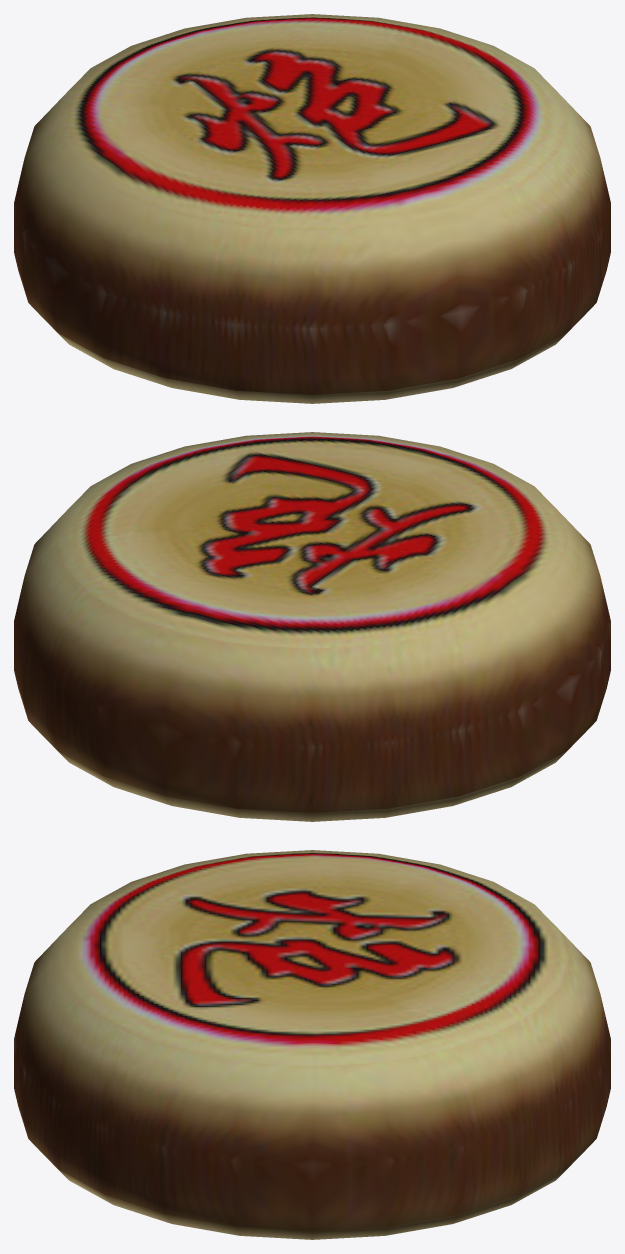
The model's file is Red_21_cannon_left.gltf.
The picture shows the model from 3 angles, top to bottom: view 1: azimuth 30°, elevation 25°; view 2: azimuth 150°, elevation 25°; view 3: azimuth 270°, elevation 25°; orthographic projection.
Visible parts, largest first — view 1: Red_21_cannon_left; view 2: Red_21_cannon_left; view 3: Red_21_cannon_left.
Boxes of the visible parts, box(x1,y1,x2,y2) form: Red_21_cannon_left: box(14, 14, 610, 403); Red_21_cannon_left: box(14, 432, 610, 821); Red_21_cannon_left: box(14, 850, 610, 1239).
Size of the model in its own units: 0.0468 by 0.0155 by 0.0468.
Materials: 1 (1 with a texture image).
